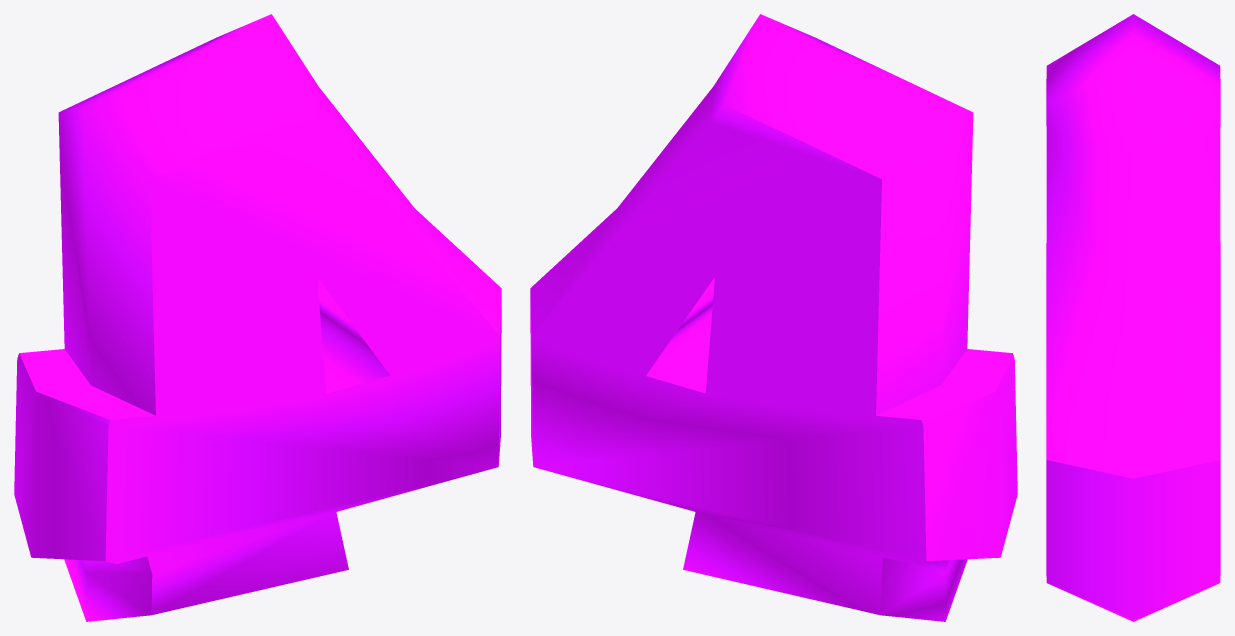
File: purple_4.glb
3 views of the same model, side by side, from view 1: azimuth 30°, elevation 25°; view 2: azimuth 150°, elevation 25°; view 3: azimuth 270°, elevation 25° (orthographic). The views are drawn at different scales.
Parts seen in each view (by area): view 1: Purple_4; view 2: Purple_4; view 3: Purple_4.
Part boxes in pixels (<box>): Purple_4: <box>14,14,501,621</box>; Purple_4: <box>530,14,1017,621</box>; Purple_4: <box>1046,14,1220,621</box>.
Size of the model in its own units: 0.466 by 0.5346 by 0.1568.
1 material, 1 textured.
